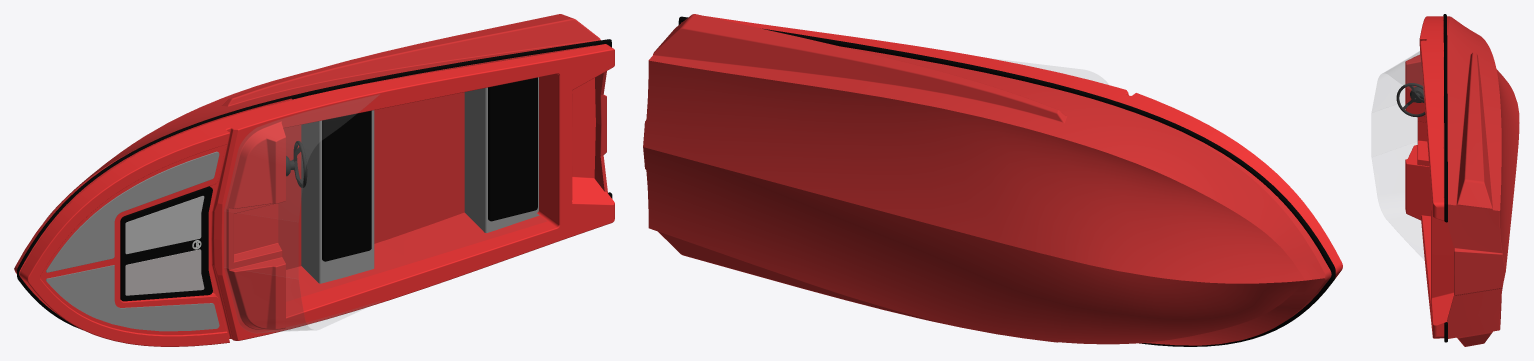
3 views of the same model, side by side, from view 1: azimuth 30°, elevation 25°; view 2: azimuth 150°, elevation 25°; view 3: azimuth 270°, elevation 25° (orthographic). The views are drawn at different scales.
Visible parts, largest first — view 1: Solid_1779, Solid_1789, Solid_1786, Solid.002, Solid_1776, Solid_1770, Solid_1773, Solid.001, Solid_1788, Solid_1787, Solid_1778, Solid_1771 (+4 smaller); view 2: Solid_1789, Solid_1779, Solid_1775; view 3: Solid_1789, Solid_1779, Solid_1788, Solid_1787, Solid_1786, Solid_1775, Solid_1781.
Boxes of the visible parts, left/top/right/bottom form: Solid_1779: left=19, top=44, right=614, bottom=346; Solid_1789: left=14, top=14, right=607, bottom=301; Solid_1786: left=224, top=94, right=379, bottom=221; Solid.002: left=322, top=110, right=371, bottom=261; Solid_1776: left=488, top=77, right=537, bottom=221; Solid_1770: left=46, top=151, right=219, bottom=272; Solid_1773: left=46, top=265, right=219, bottom=331; Solid.001: left=301, top=110, right=374, bottom=283; Solid_1788: left=224, top=268, right=377, bottom=332; Solid_1787: left=224, top=211, right=297, bottom=278; Solid_1778: left=464, top=77, right=539, bottom=232; Solid_1771: left=120, top=186, right=212, bottom=301; Solid_1789: left=643, top=14, right=1331, bottom=345; Solid_1779: left=705, top=16, right=1342, bottom=278; Solid_1775: left=678, top=16, right=1335, bottom=346; Solid_1789: left=1442, top=16, right=1519, bottom=346; Solid_1779: left=1405, top=16, right=1453, bottom=338; Solid_1788: left=1372, top=142, right=1423, bottom=258; Solid_1787: left=1372, top=102, right=1416, bottom=156; Solid_1786: left=1372, top=51, right=1423, bottom=112; Solid_1775: left=1443, top=14, right=1447, bottom=342; Solid_1781: left=1396, top=83, right=1425, bottom=117.
Bounding box in the file's own units: 4333 × 1567 × 1192.
